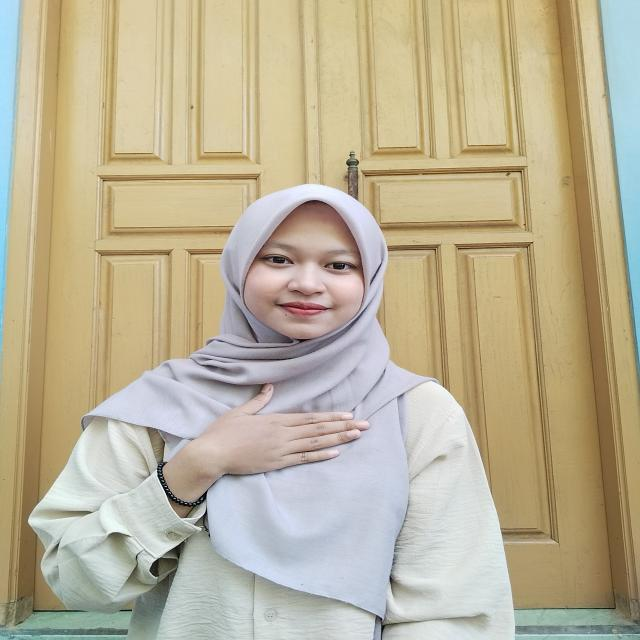tolong: (134, 378, 376, 512)
